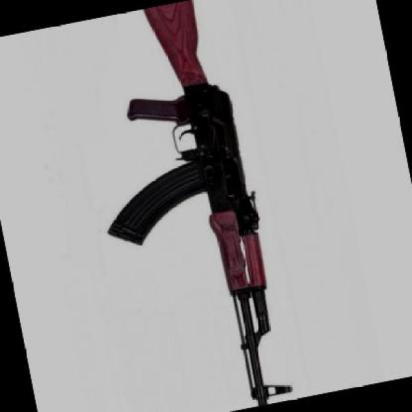Gun: (60, 0, 331, 412)
